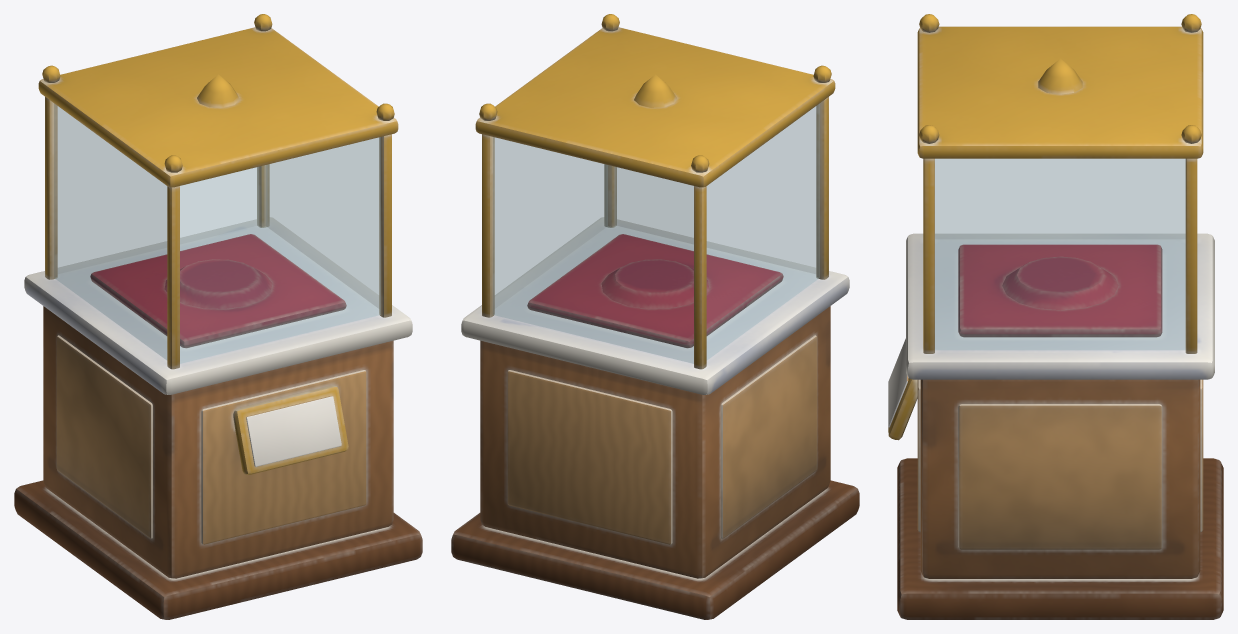
The model's file is display_case.glb.
The picture shows the model from 3 angles, left to right: view 1: azimuth 30°, elevation 25°; view 2: azimuth 150°, elevation 25°; view 3: azimuth 270°, elevation 25°; orthographic projection. The views are drawn at different scales.
Visible parts, largest first — view 1: SM_DisplayCase; view 2: SM_DisplayCase; view 3: SM_DisplayCase.
Part boxes in pixels (x1=…): SM_DisplayCase: x1=14, y1=14, x2=422, y2=619; SM_DisplayCase: x1=451, y1=14, x2=859, y2=619; SM_DisplayCase: x1=888, y1=14, x2=1223, y2=619.
Size of what is drawn, in the model's own units: 1.12 by 1.88 by 1.15.
2 materials, 1 textured.
